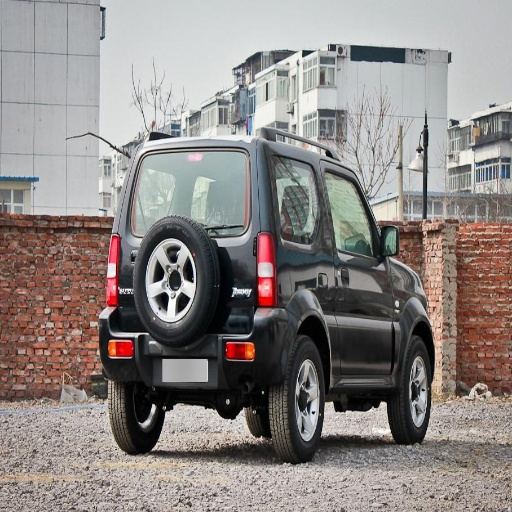back_right_door: (267, 145, 353, 343)
trunk: (159, 155, 259, 284)
